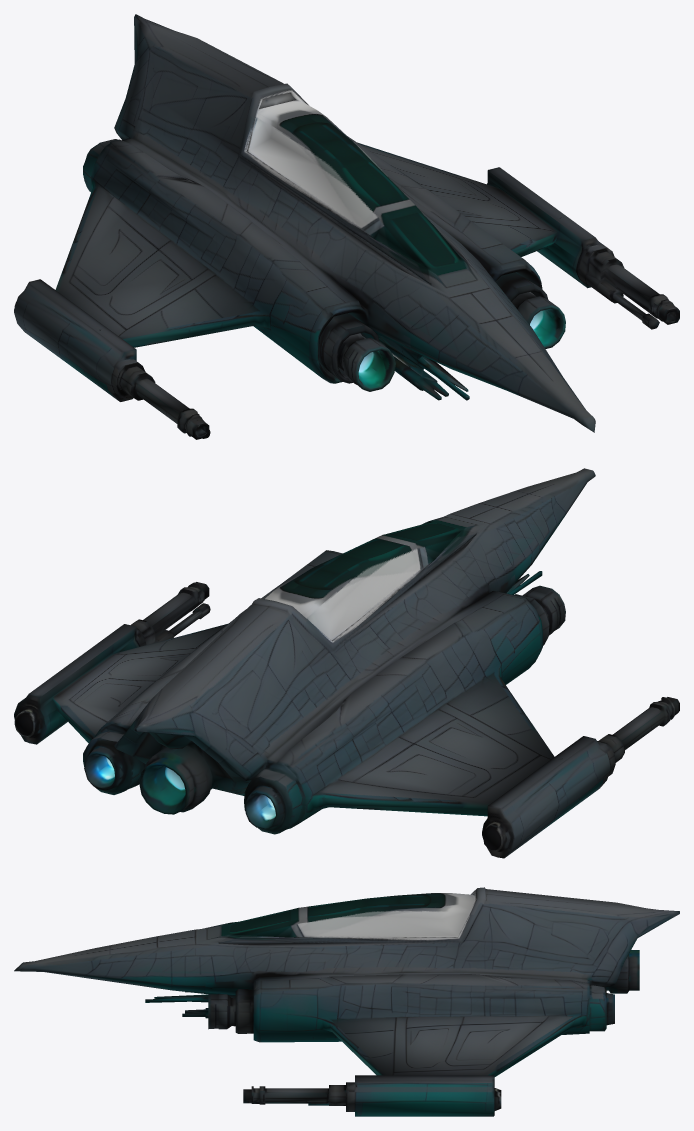
Rendered from fighter.glb.
The picture shows the model from 3 angles, top to bottom: view 1: azimuth 30°, elevation 25°; view 2: azimuth 150°, elevation 25°; view 3: azimuth 270°, elevation 25°; orthographic projection. The views are drawn at different scales.
Parts seen in each view (by area): view 1: fighter; view 2: fighter; view 3: fighter.
Part boxes in pixels (x1,y1,x2,y2): fighter: (14, 14, 679, 439); fighter: (14, 468, 679, 858); fighter: (14, 887, 679, 1116).
Size of the model in its own units: 1.2 by 0.4374 by 1.9.
1 material, 1 textured.
